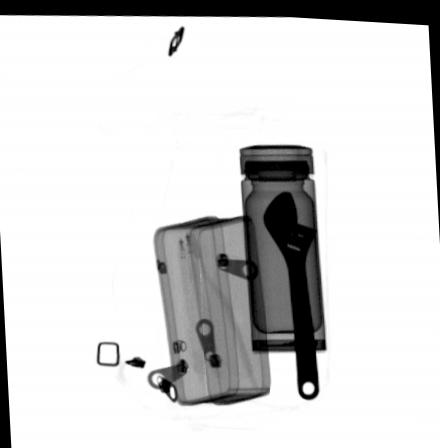Wrench: (260, 185, 321, 398)
